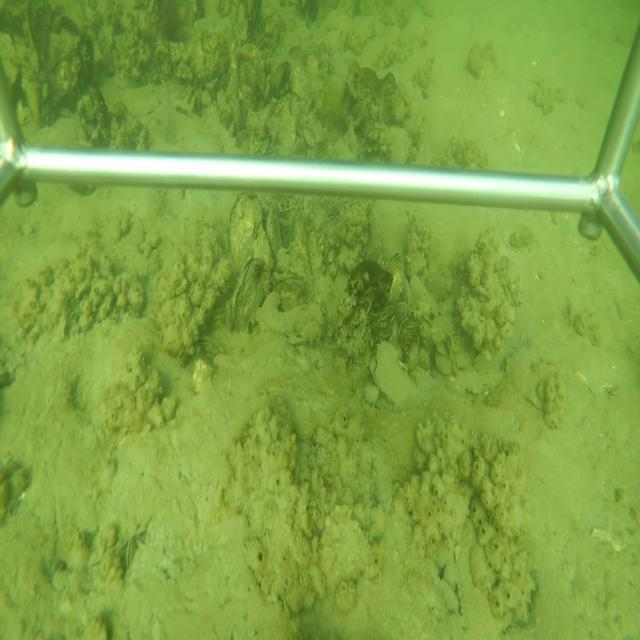Oyster-Closed: (369, 338, 418, 410), (232, 256, 266, 332), (228, 192, 262, 268), (266, 204, 278, 253), (400, 276, 412, 309), (406, 342, 419, 371), (419, 346, 431, 372)
Oyster-Indeterminate: (316, 505, 372, 590), (259, 290, 327, 344), (302, 124, 316, 150)
